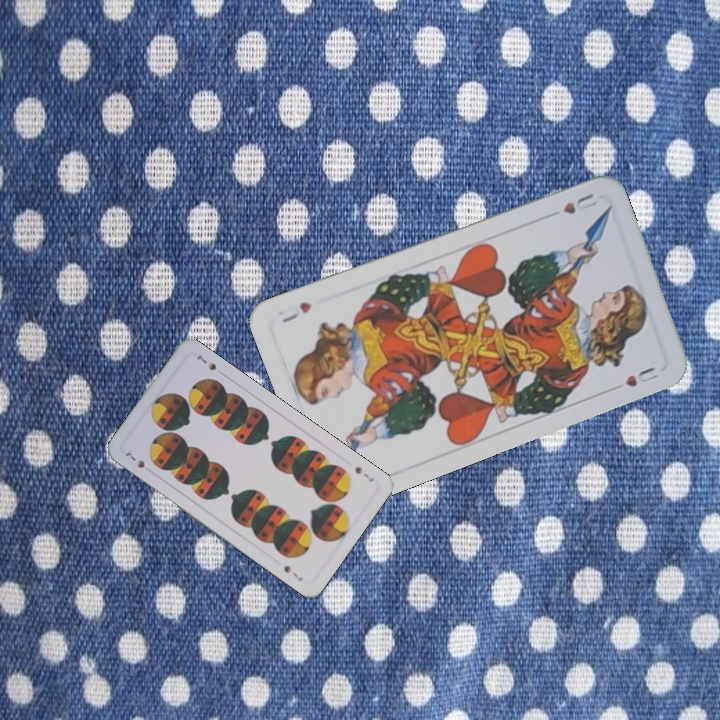HU: (559, 189, 600, 217)
S7: (121, 448, 147, 471), (351, 462, 377, 484)
